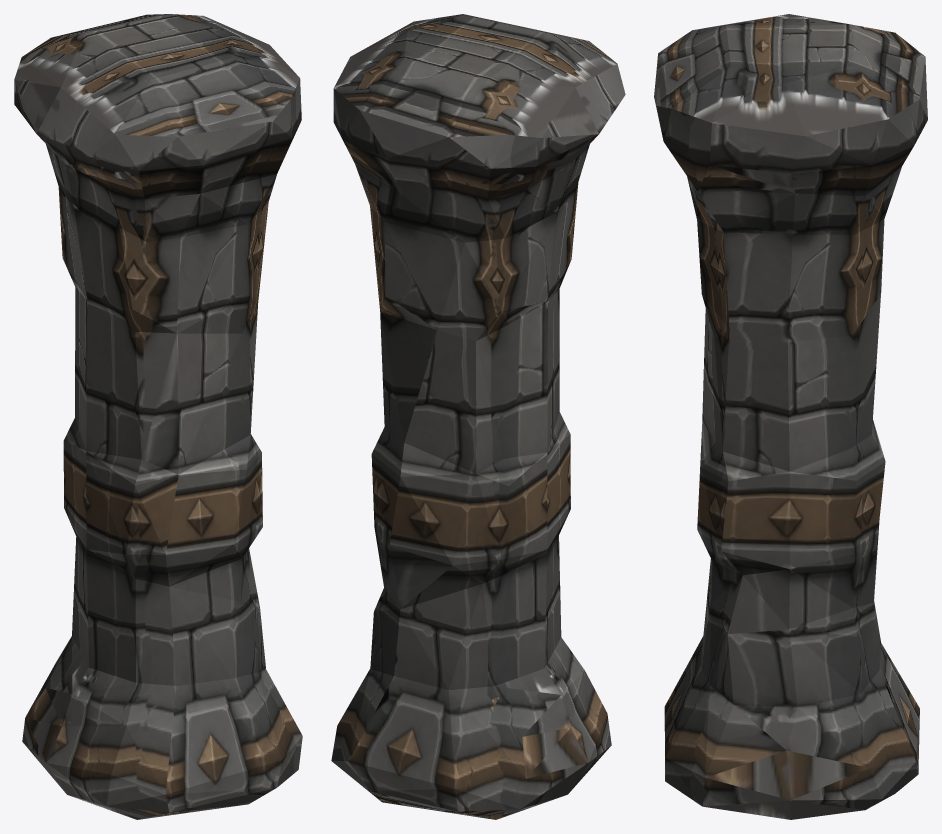
File: SM_Dungeon_Pillar_A_LOD2.glb
The picture shows the model from 3 angles, left to right: view 1: azimuth 30°, elevation 25°; view 2: azimuth 150°, elevation 25°; view 3: azimuth 270°, elevation 25°; orthographic projection.
Parts seen in each view (by area): view 1: SM_Dungeon_Pillar_A_LOD2; view 2: SM_Dungeon_Pillar_A_LOD2; view 3: SM_Dungeon_Pillar_A_LOD2.
Boxes of the visible parts, left/top/right/bottom form: SM_Dungeon_Pillar_A_LOD2: left=14, top=14, right=302, bottom=819; SM_Dungeon_Pillar_A_LOD2: left=331, top=14, right=625, bottom=819; SM_Dungeon_Pillar_A_LOD2: left=654, top=14, right=927, bottom=819.
Bounding box in the file's own units: 1.02 × 3 × 0.9911.
1 material, 1 textured.
